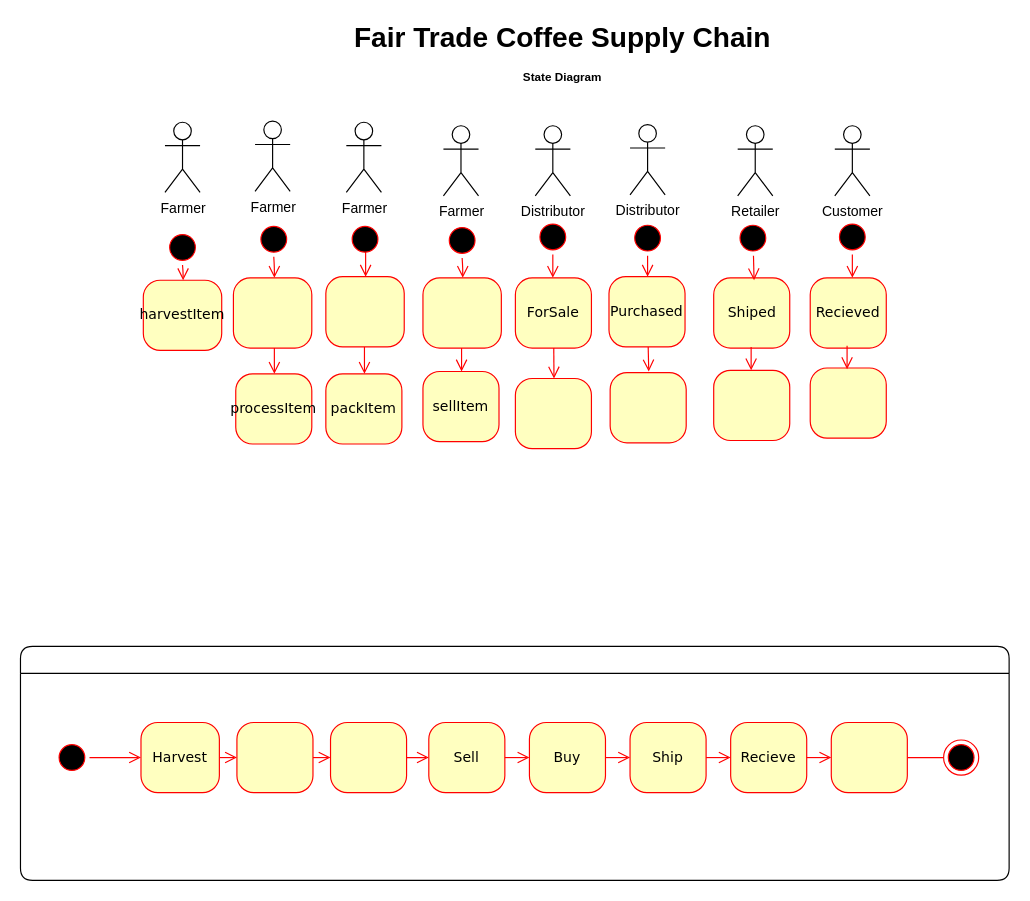
Image size: 1030x901. Some labels were removed from this diagram. The shapes that lost their labels are listed below. From the top down, each one's box as (x1, y1, x2, y2) in pixels, then its label:
(232, 277, 312, 348): Harvested
(325, 276, 404, 347): Processd
(422, 277, 501, 348): Packed
(514, 377, 591, 449): buyItem
(609, 371, 686, 443): shipItem
(713, 369, 790, 441): receiveItem
(809, 367, 886, 438): purchaseItem
(236, 721, 313, 793): Process
(329, 721, 407, 793): Pack
(19, 645, 1009, 880): Container
(830, 721, 907, 793): Purchase
